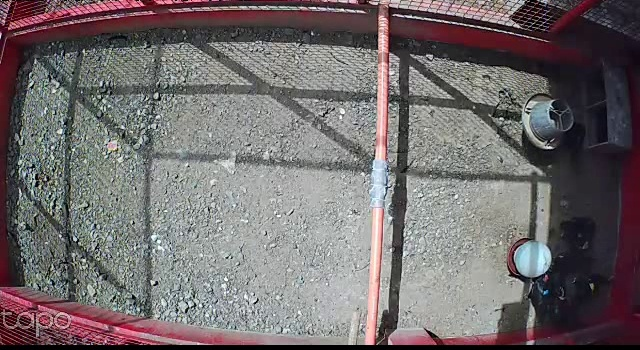Chicken: (552, 213, 601, 255), (559, 120, 592, 176), (526, 271, 555, 324)
Drinker: (505, 238, 555, 280)
Feeder: (521, 92, 576, 150)
Saddle_Color_Blue: (543, 289, 549, 296)
Saddle_Color_Yellow: (588, 282, 596, 292)
